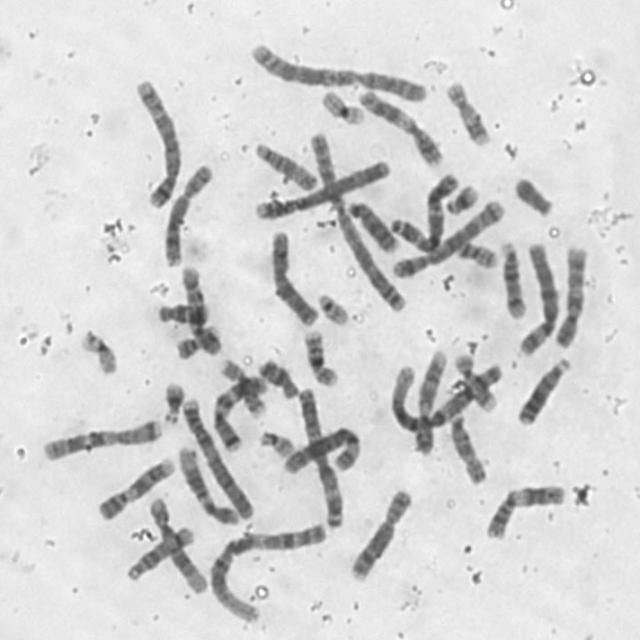A1: (204, 518, 330, 626), (384, 356, 503, 434)
A2: (304, 125, 410, 315), (244, 37, 430, 104)
A3: (294, 383, 347, 532), (385, 167, 462, 256)
B4: (178, 392, 255, 520), (251, 156, 391, 222)
B5: (390, 194, 507, 279), (129, 73, 185, 211)
C10: (178, 262, 225, 360), (551, 240, 591, 350)
C11: (355, 84, 447, 168), (480, 479, 567, 541)
C12: (144, 491, 210, 597), (173, 440, 241, 525)
C6: (515, 240, 562, 358), (280, 422, 364, 478)
C7: (37, 413, 165, 463), (210, 370, 270, 452)
C8: (346, 483, 415, 584), (159, 158, 217, 268)
C9: (93, 452, 178, 522), (411, 346, 449, 457)
D13: (512, 352, 574, 428), (342, 195, 400, 255)
D14: (121, 521, 197, 583), (494, 237, 530, 320)
D15: (248, 136, 319, 192), (445, 408, 491, 487)
E16: (215, 355, 268, 419), (299, 323, 342, 388)
E17: (442, 75, 493, 148), (449, 348, 499, 414)
E18: (254, 354, 302, 399), (153, 298, 211, 326)
F19: (76, 323, 120, 378), (318, 86, 367, 127)
F20: (172, 320, 221, 361), (452, 236, 499, 270)
G21: (440, 179, 481, 218), (158, 378, 187, 427)
G22: (313, 287, 351, 327), (254, 424, 296, 460)
X: (266, 225, 321, 327)
Y: (511, 170, 558, 218)
